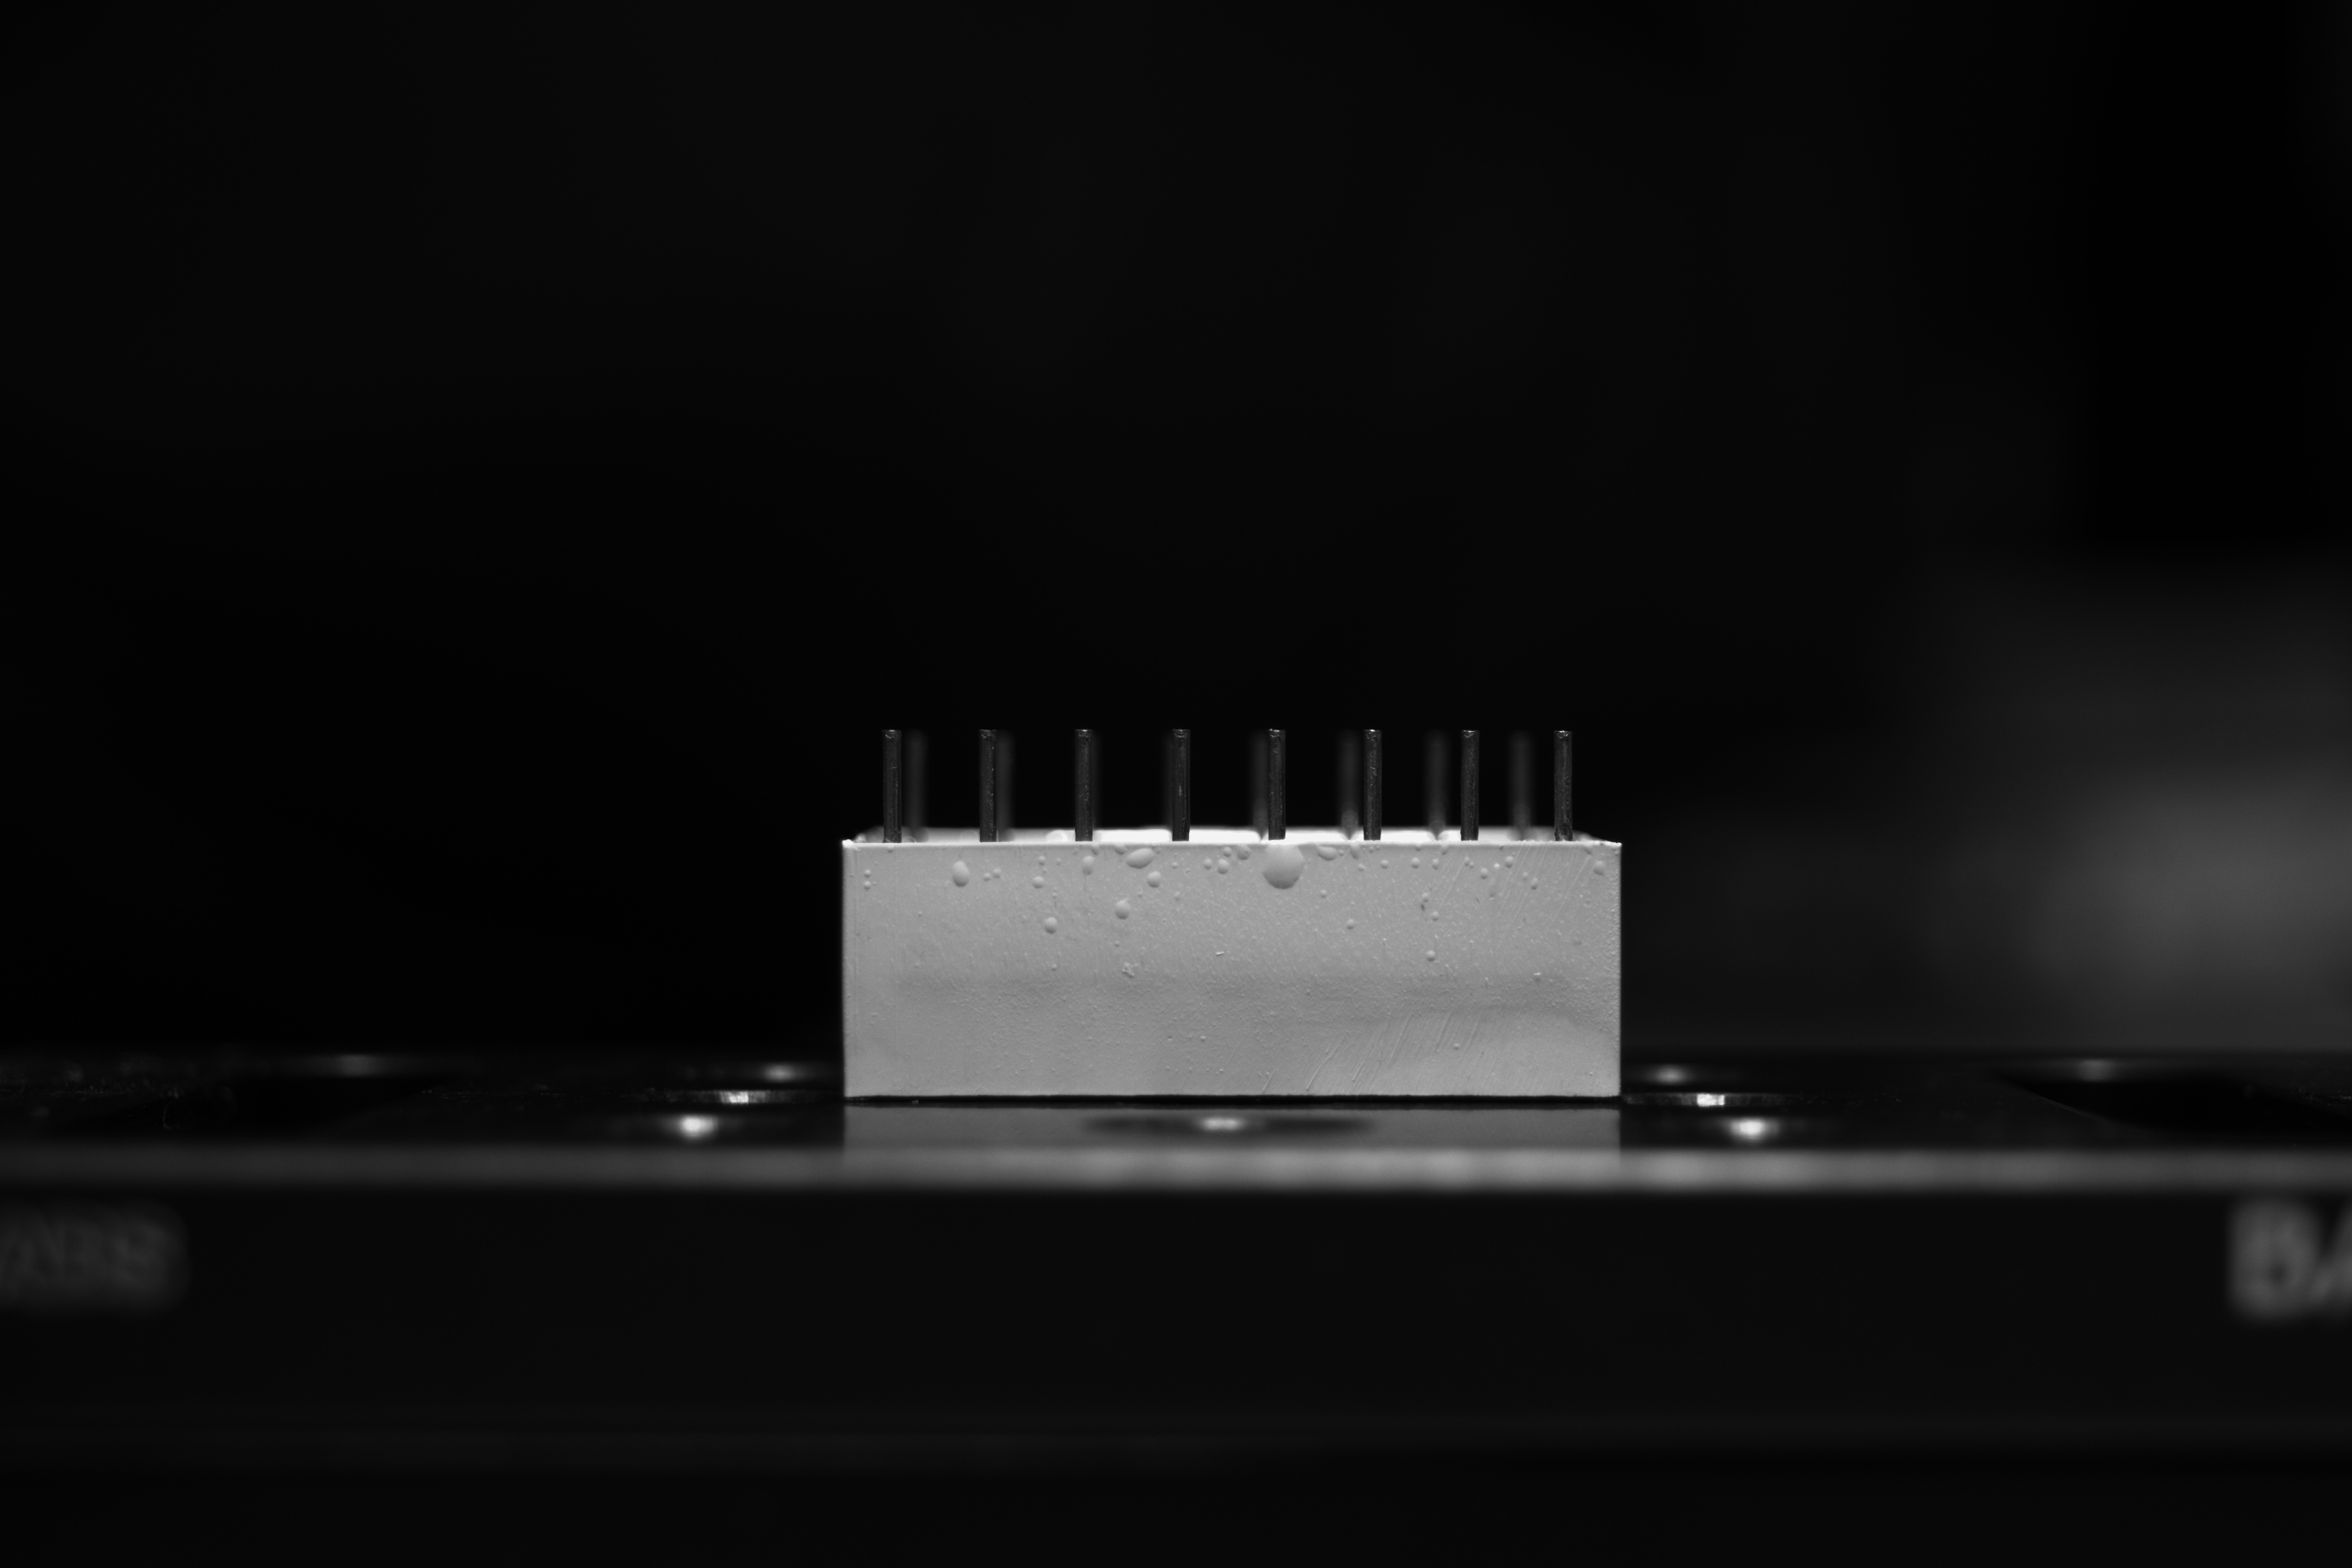glue: (1263, 845, 1305, 889), (1127, 847, 1157, 870), (952, 859, 969, 885), (1316, 843, 1340, 861), (1146, 870, 1164, 889), (1116, 898, 1132, 919), (1592, 859, 1608, 878), (1081, 856, 1095, 877), (1045, 915, 1060, 933), (1237, 843, 1253, 861), (1032, 873, 1046, 889), (1218, 857, 1232, 873), (1113, 843, 1129, 856), (1351, 843, 1361, 861), (1463, 856, 1475, 868), (1531, 875, 1542, 889), (1426, 948, 1437, 962), (1584, 842, 1594, 854), (1410, 856, 1421, 868), (1505, 854, 1514, 868), (1440, 845, 1451, 856), (1421, 892, 1431, 903), (992, 868, 1004, 877), (1204, 857, 1213, 870), (1480, 866, 1489, 878), (1223, 845, 1232, 857), (1038, 854, 1046, 864), (1433, 857, 1442, 868), (983, 871, 992, 882), (1347, 919, 1356, 929), (1381, 857, 1389, 868), (1431, 910, 1440, 920), (864, 878, 871, 891), (864, 868, 871, 878), (1321, 889, 1328, 898), (1358, 863, 1365, 871), (1052, 962, 1057, 971)
